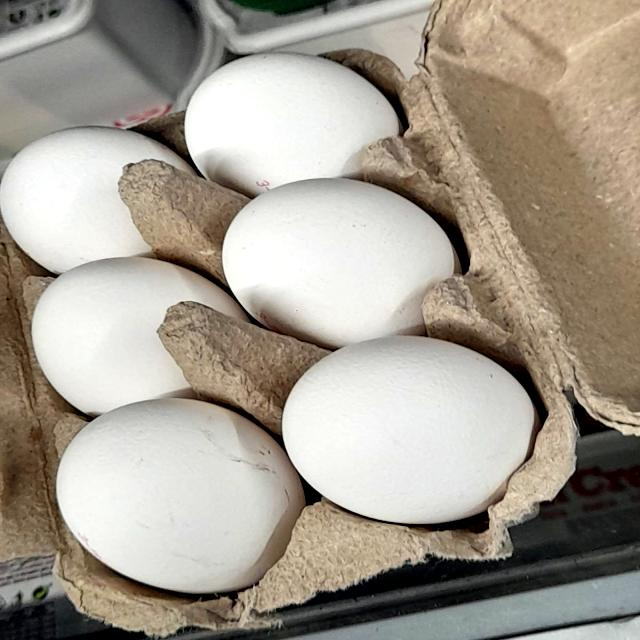egg: (260, 337, 556, 532), (35, 396, 313, 600), (204, 170, 479, 336), (168, 32, 420, 187), (17, 251, 247, 413), (0, 114, 200, 279)
